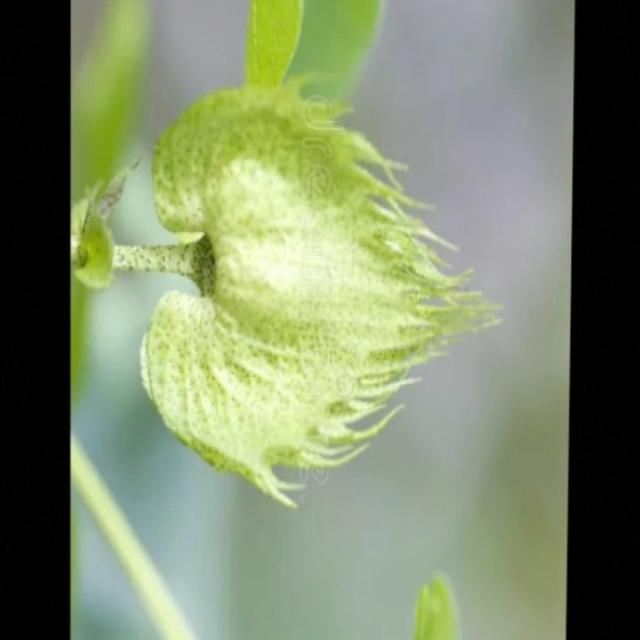Cotton Bud: (122, 97, 465, 490)
